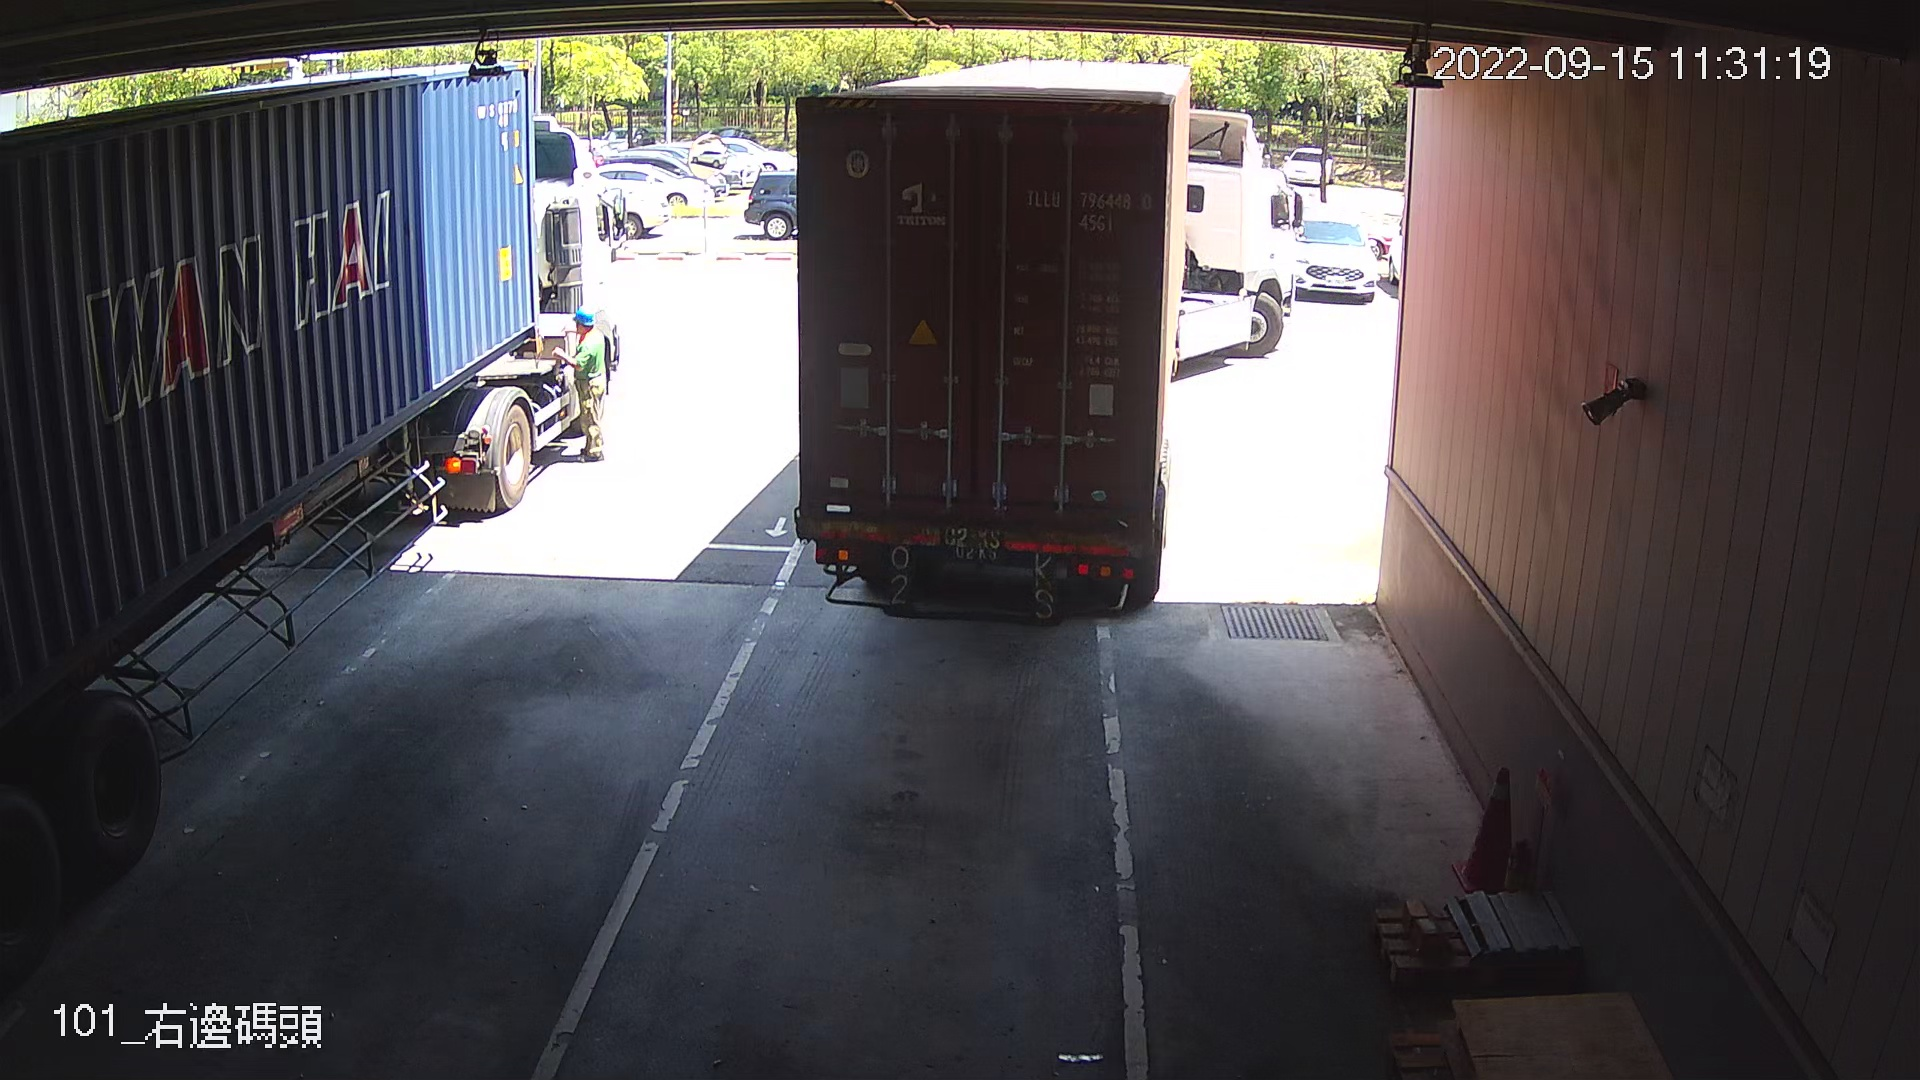container: (1019, 179, 1156, 243)
